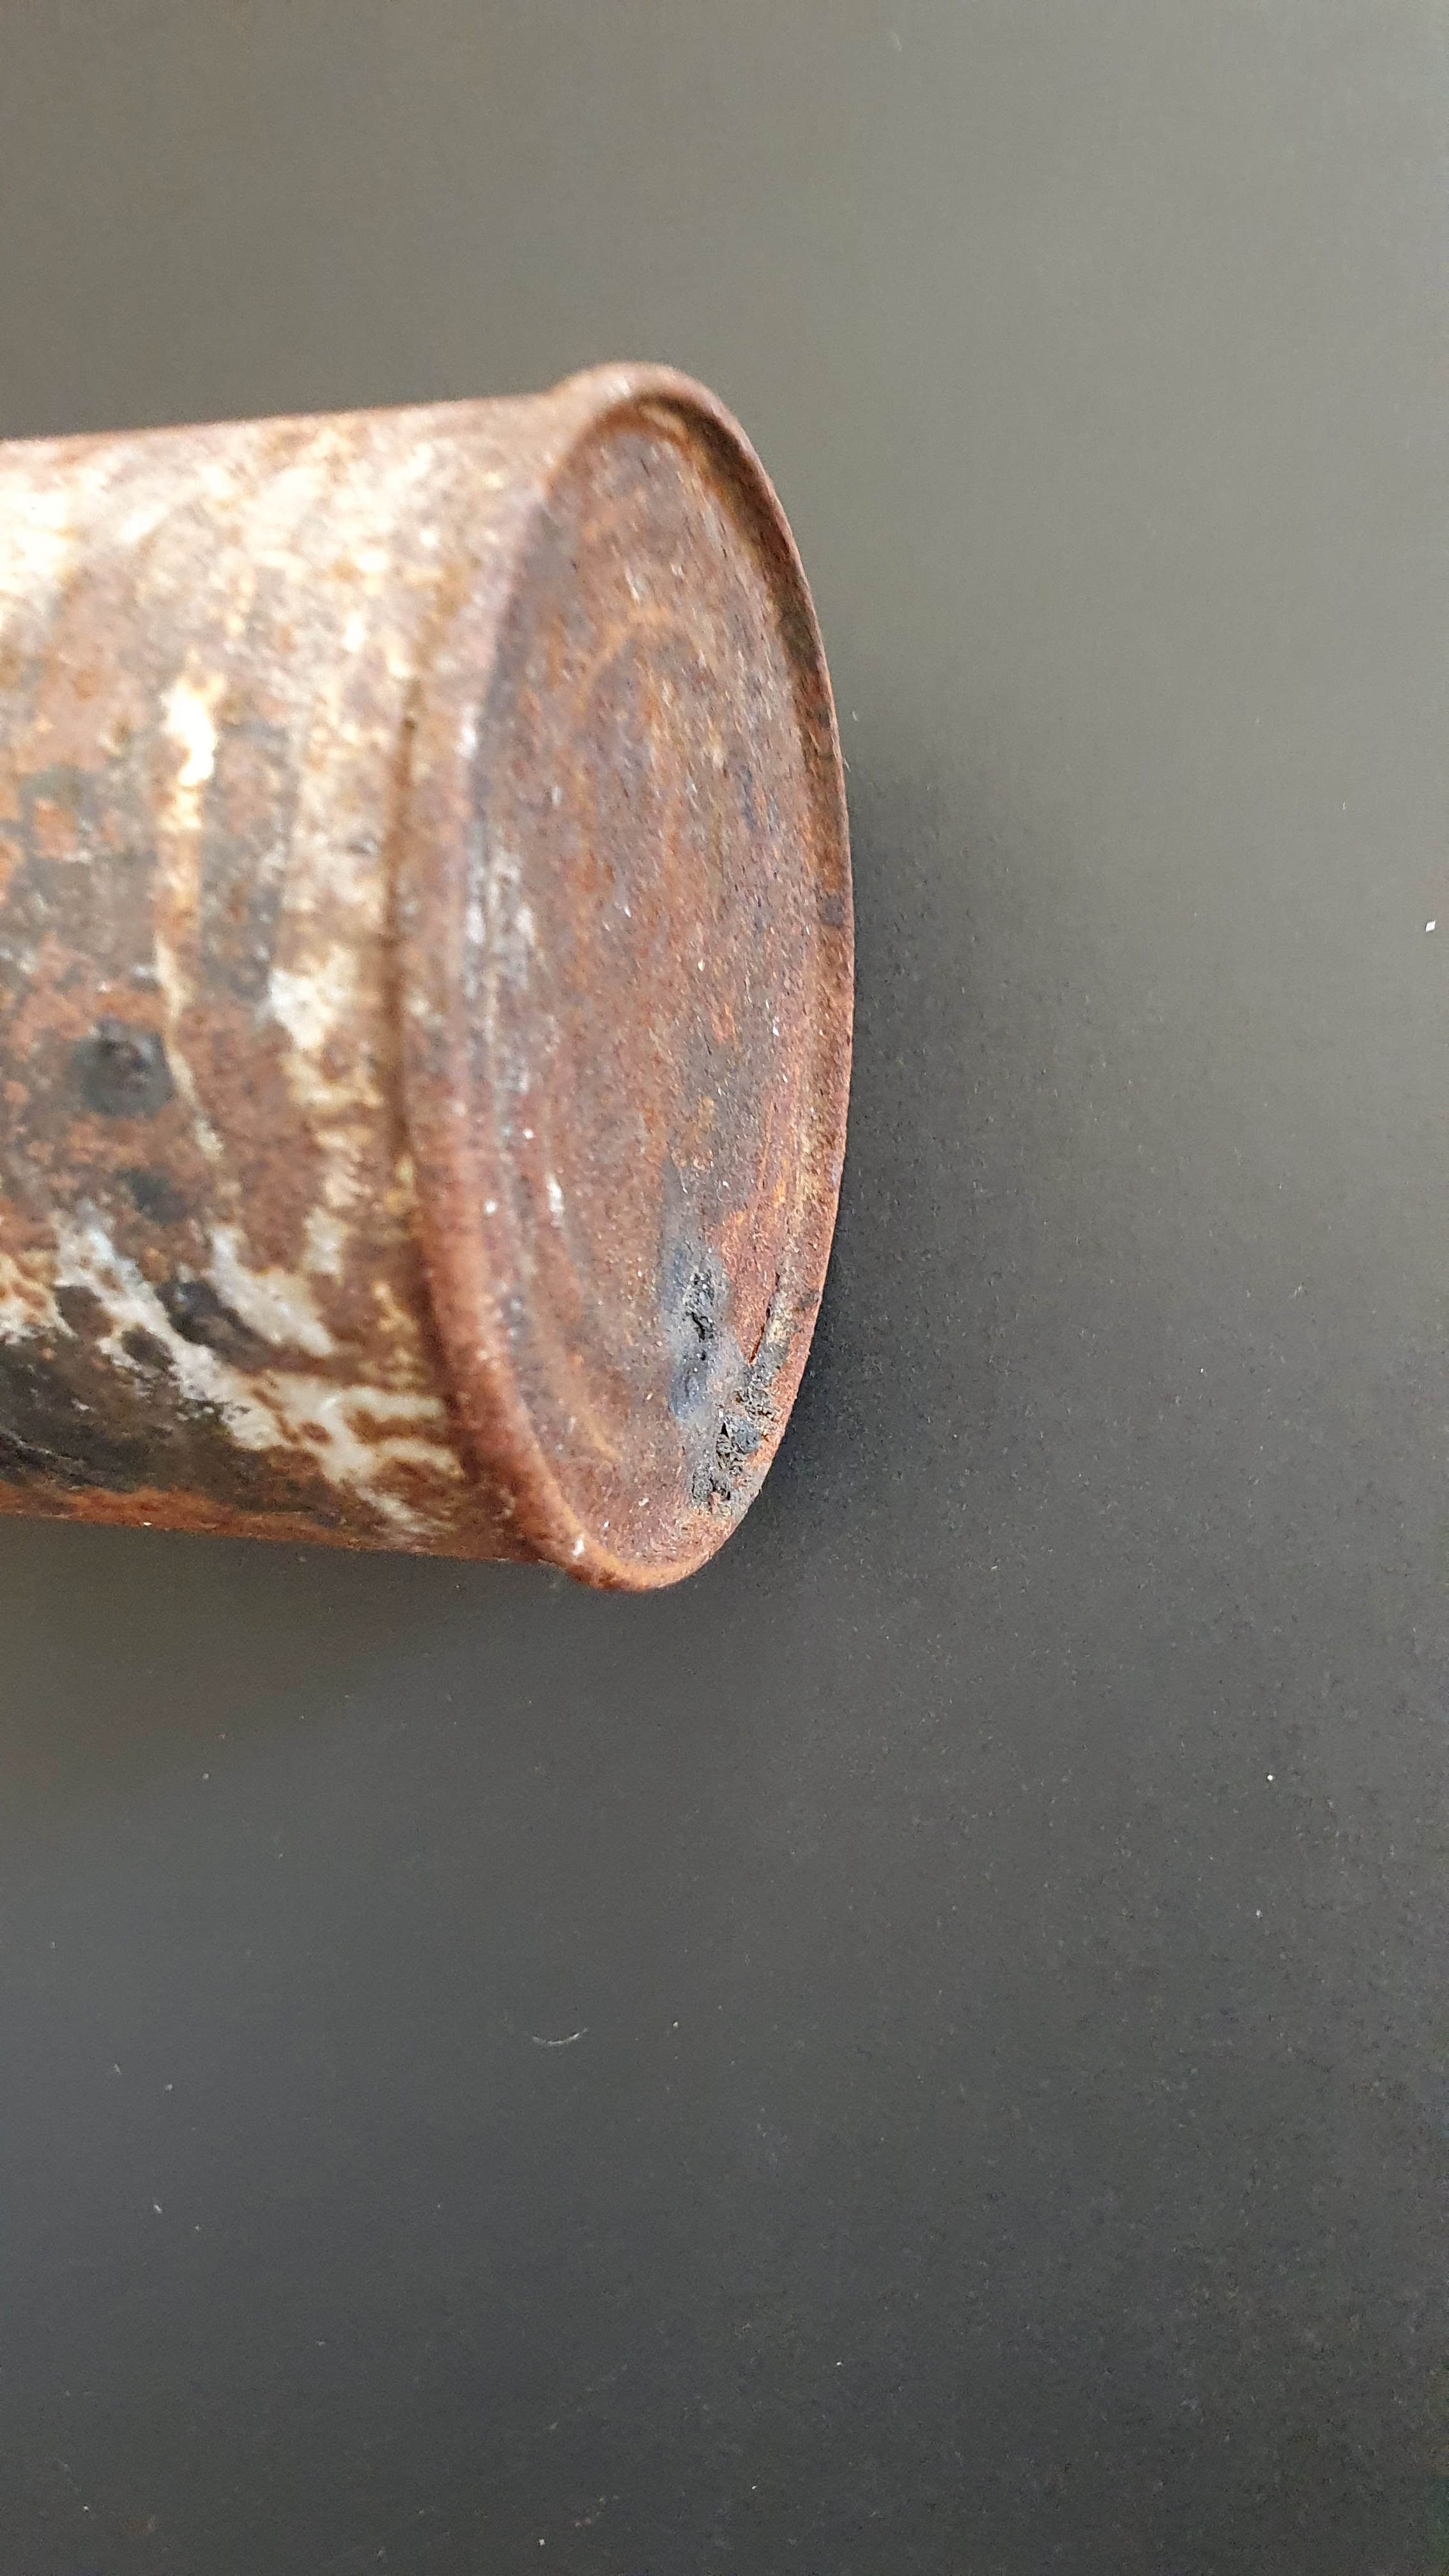metal: (7, 315, 897, 1702)
